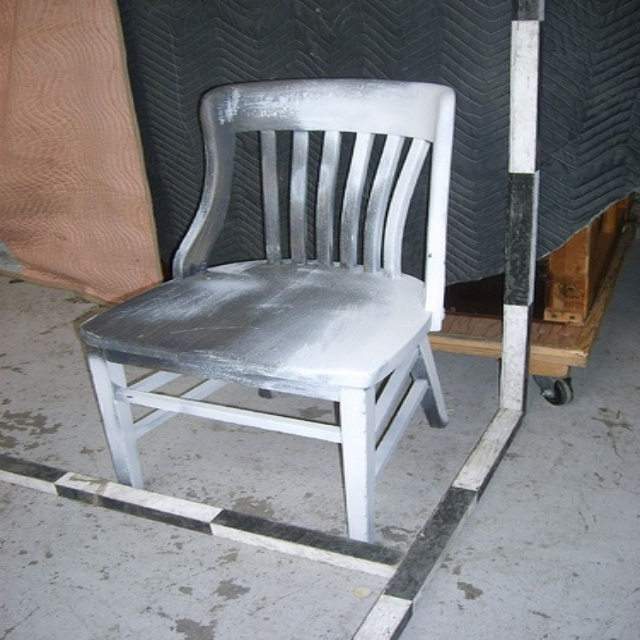obstacle: (82, 79, 454, 540)
